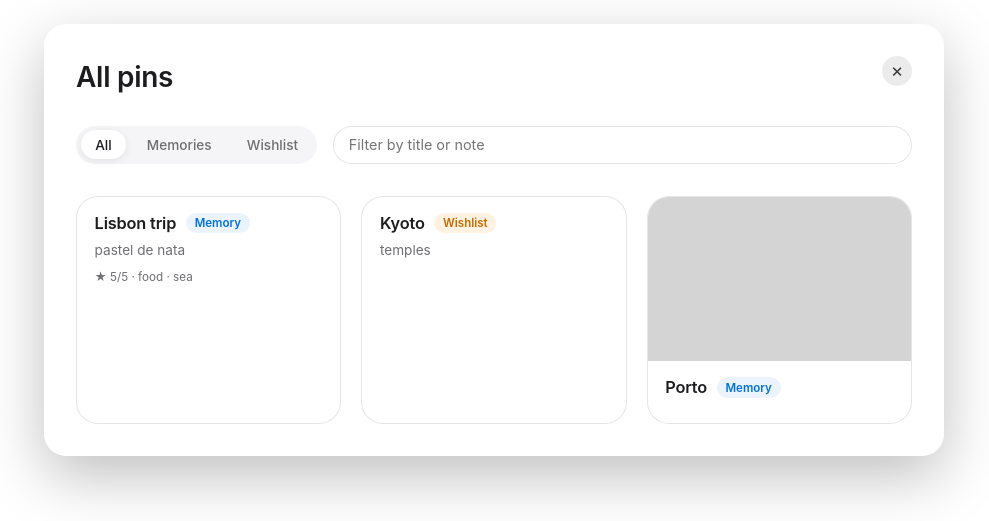
Test: AllPinsModal › filters by kind tab
Check: the heading "Kyoto" is shown, box [380,213,425,234]
Click the button "Wishlist" at (272, 145), box [232,130,312,159]
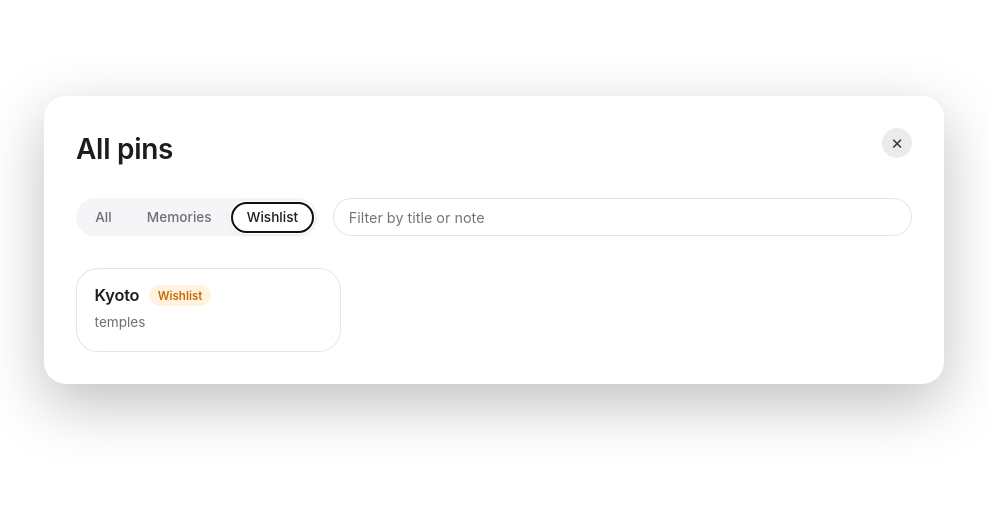
Check: the heading "Kyoto" is shown, box [95,285,139,306]
Check: the button "Lisbon trip" is gone
Click the button "Memories" at (179, 217), box [132,203,226,232]
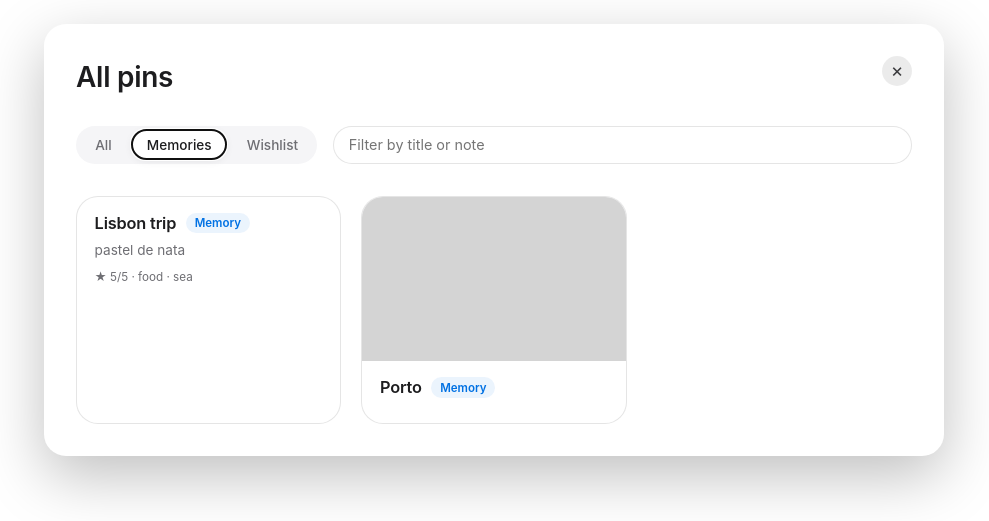
Check: the button "Kyoto" is gone
Check: the heading "Porto" is shown, box [380,378,422,399]
